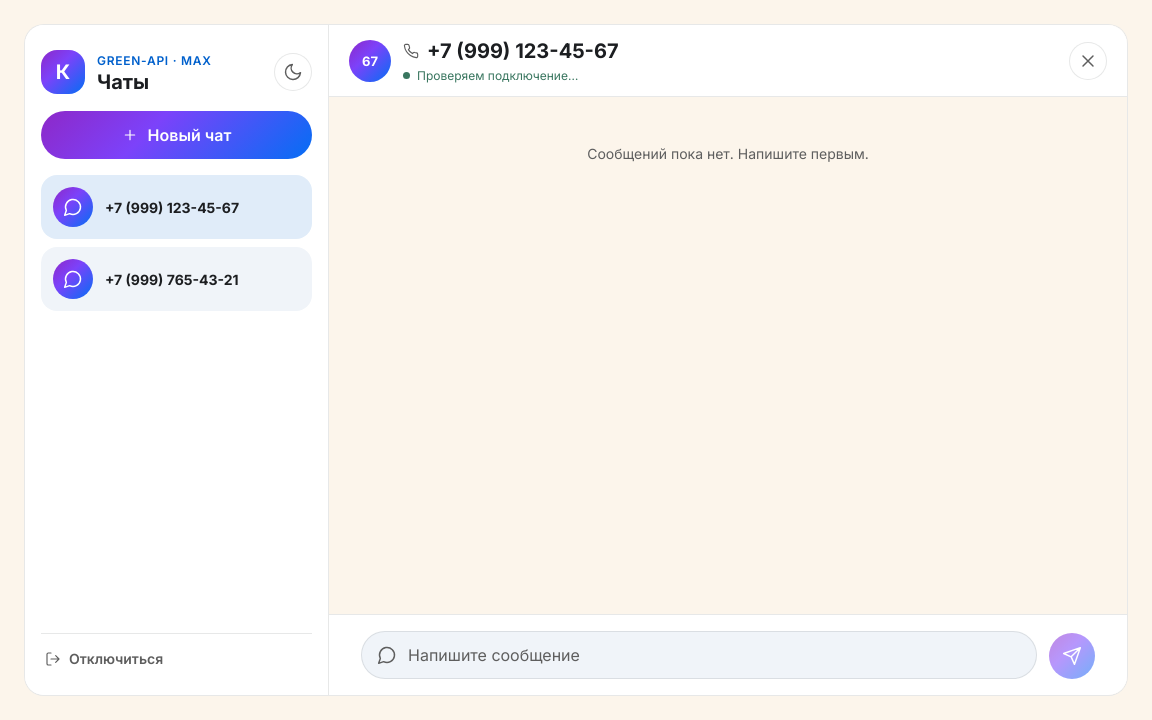
Test: keeps a sent message when its send completes after switching chats
In the text box labelled "сообщение": (699, 655) left=361, top=631, right=1037, bottom=679, type "Отложенная отправка"
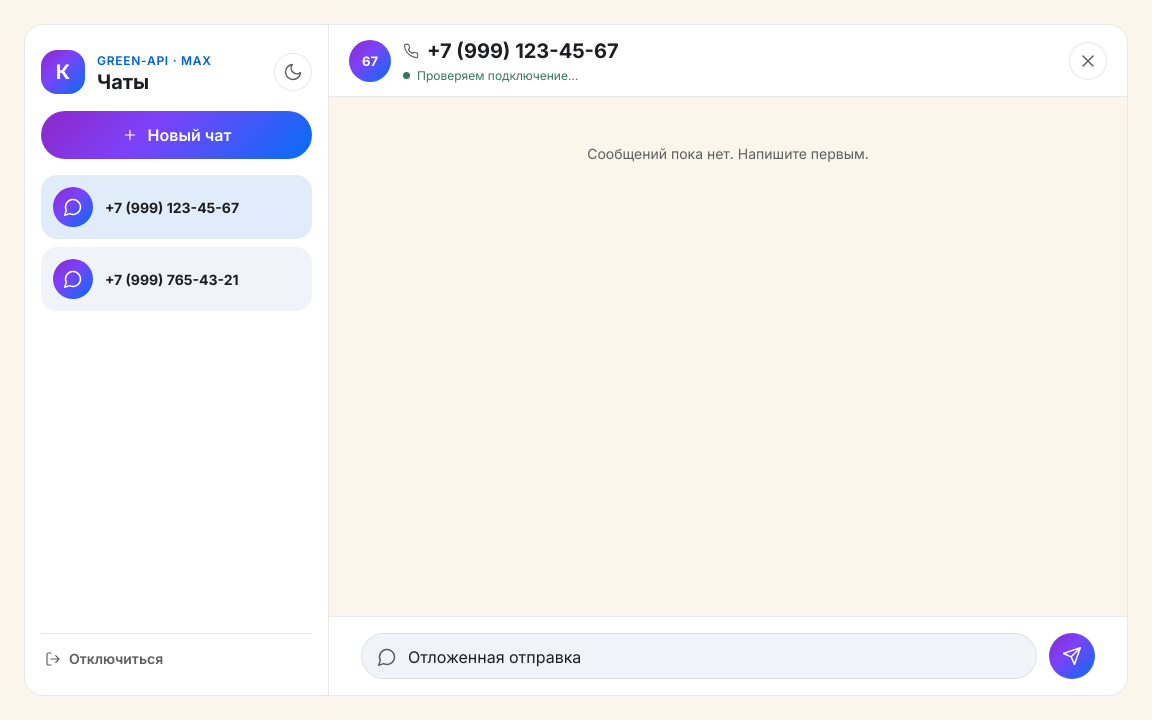
Click the button named "Отправить": (1072, 656) left=1049, top=633, right=1095, bottom=679
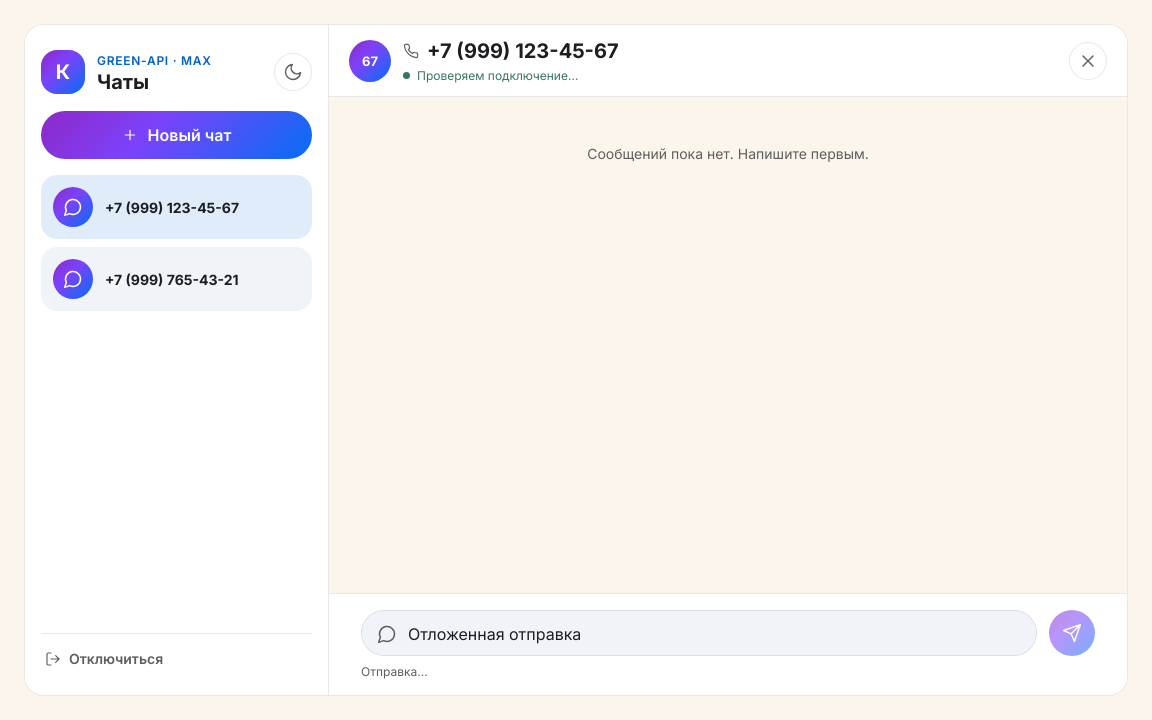
Click the button "+7 (999) 765-43-21": (176, 279) left=41, top=247, right=312, bottom=311
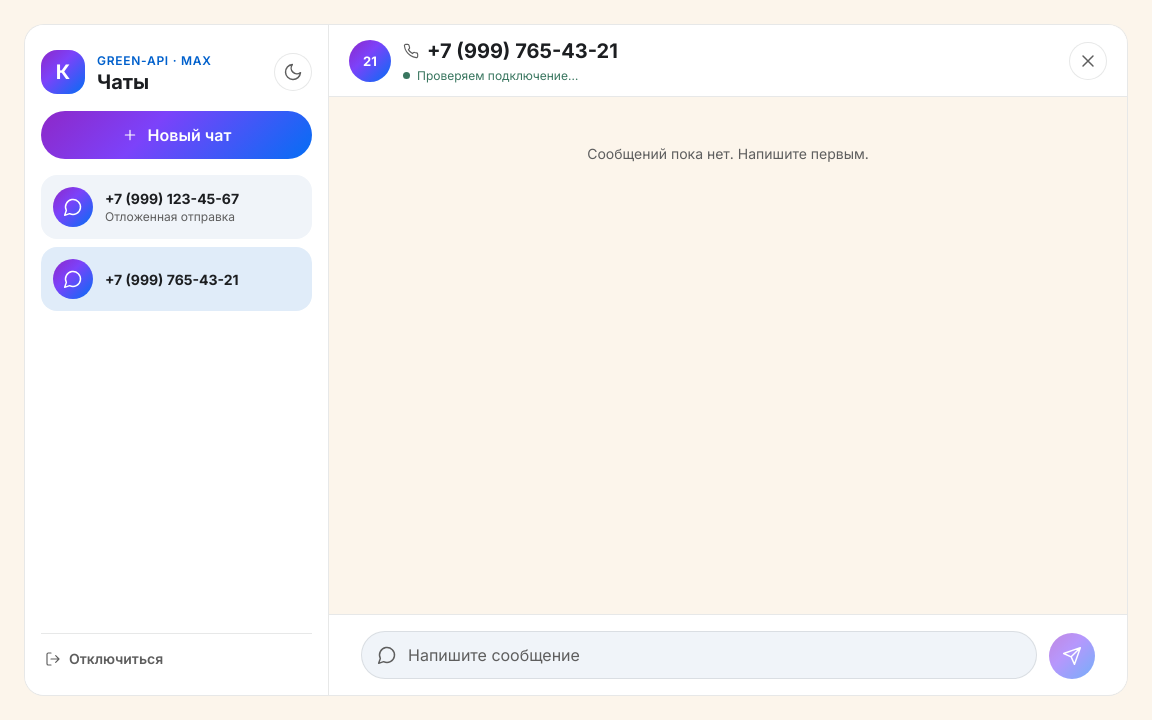
Click the button "+7 (999) 123-45-67 Отложенная отправка": (176, 207) left=41, top=175, right=312, bottom=239
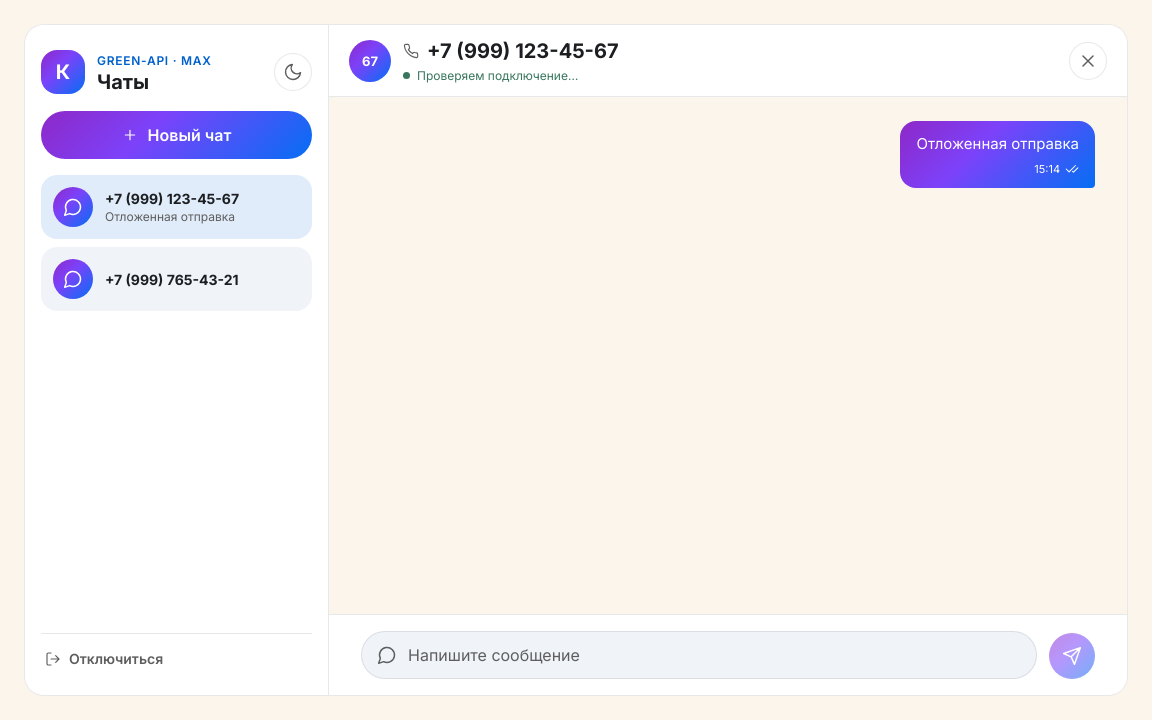
Result: the 1st text "Отложенная отправка" is shown at left=916, top=133, right=1079, bottom=156
